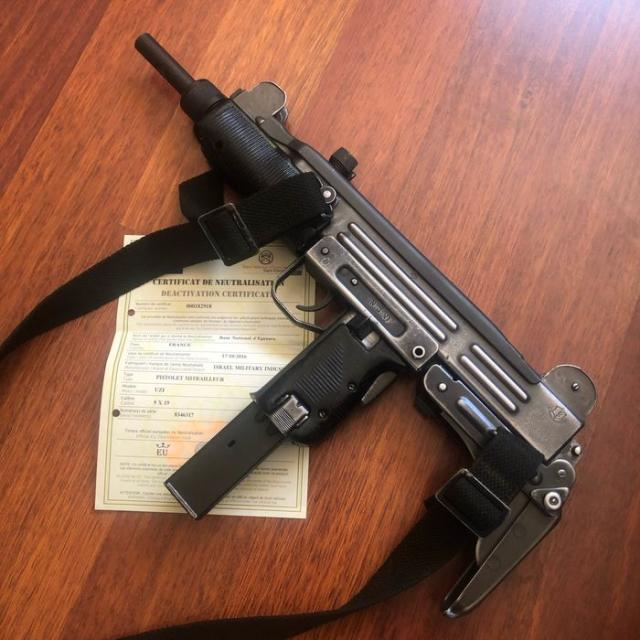SMG: (135, 35, 595, 619)
